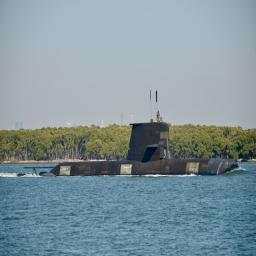submarine: (29, 122, 251, 179)
